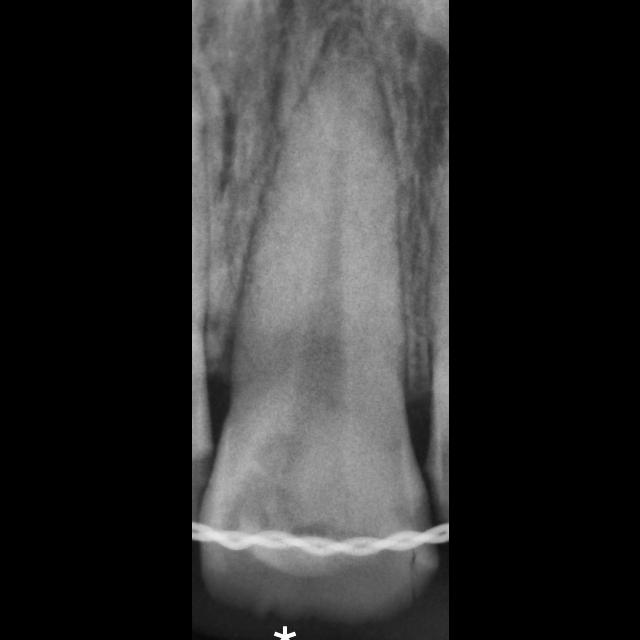tooth: (195, 22, 437, 630)
